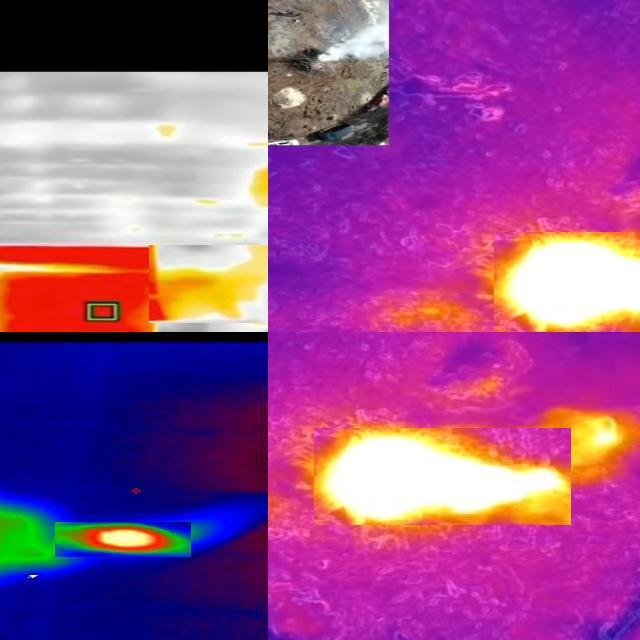fire: (314, 429, 571, 526), (494, 233, 640, 333), (149, 246, 269, 324), (55, 523, 191, 558)
